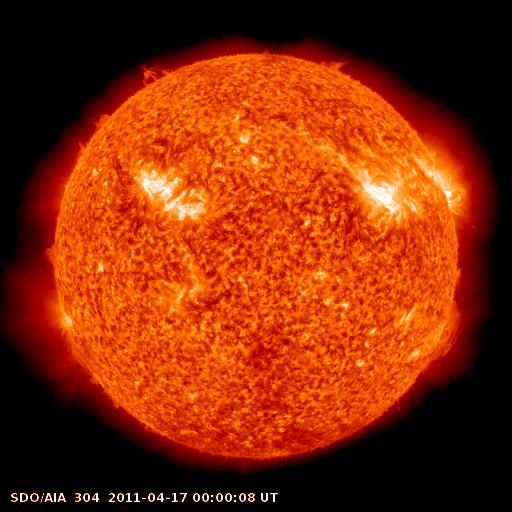prominence: (412, 293, 475, 368), (69, 342, 131, 414), (68, 102, 120, 158), (131, 52, 179, 91), (311, 47, 359, 84), (40, 238, 64, 274)
